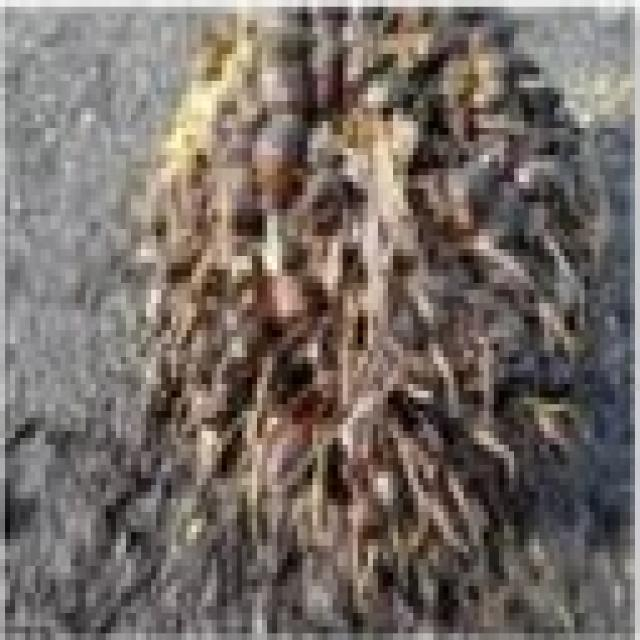FFB: (150, 11, 605, 611)
